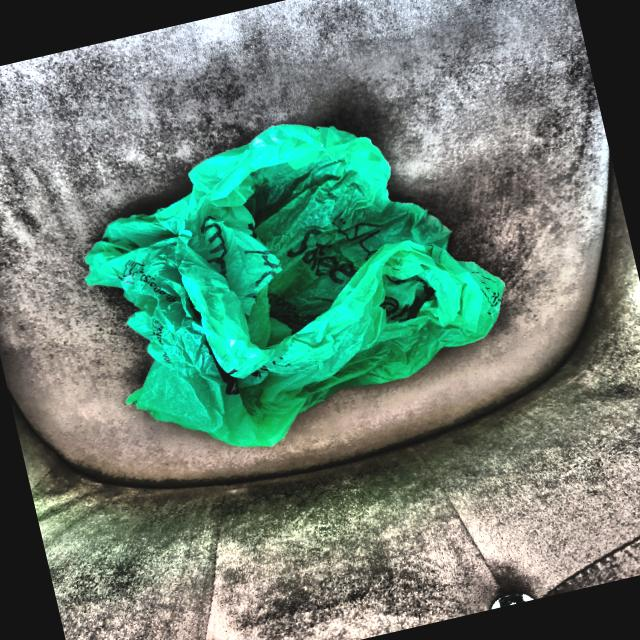plastic bag: (65, 85, 526, 478)
